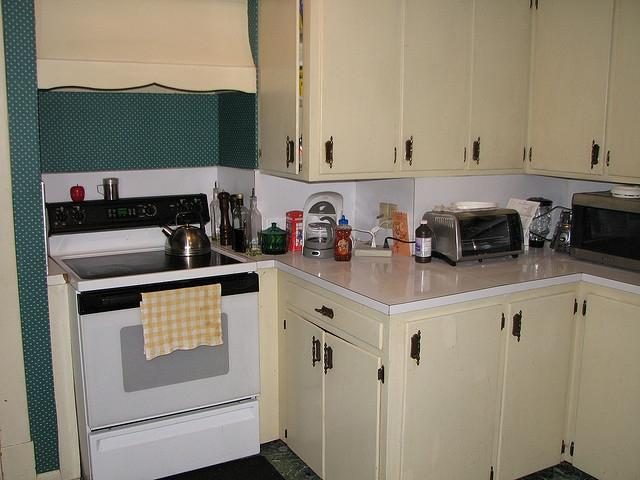apple: (70, 184, 85, 201)
